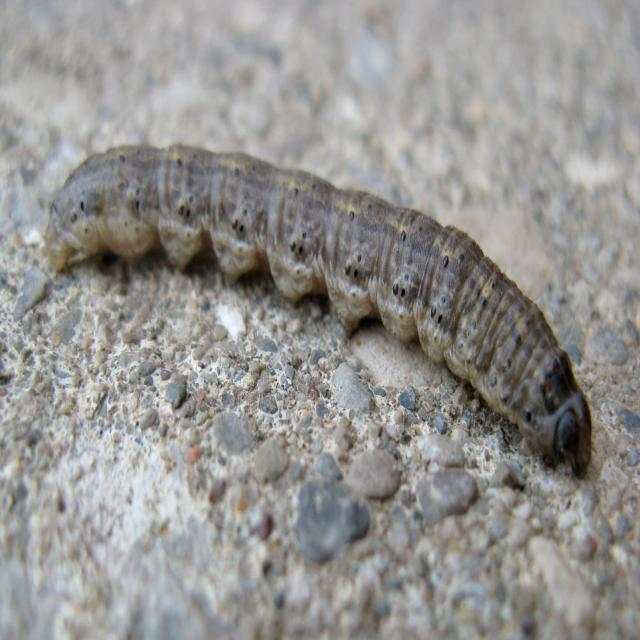worm: (45, 141, 594, 480)
